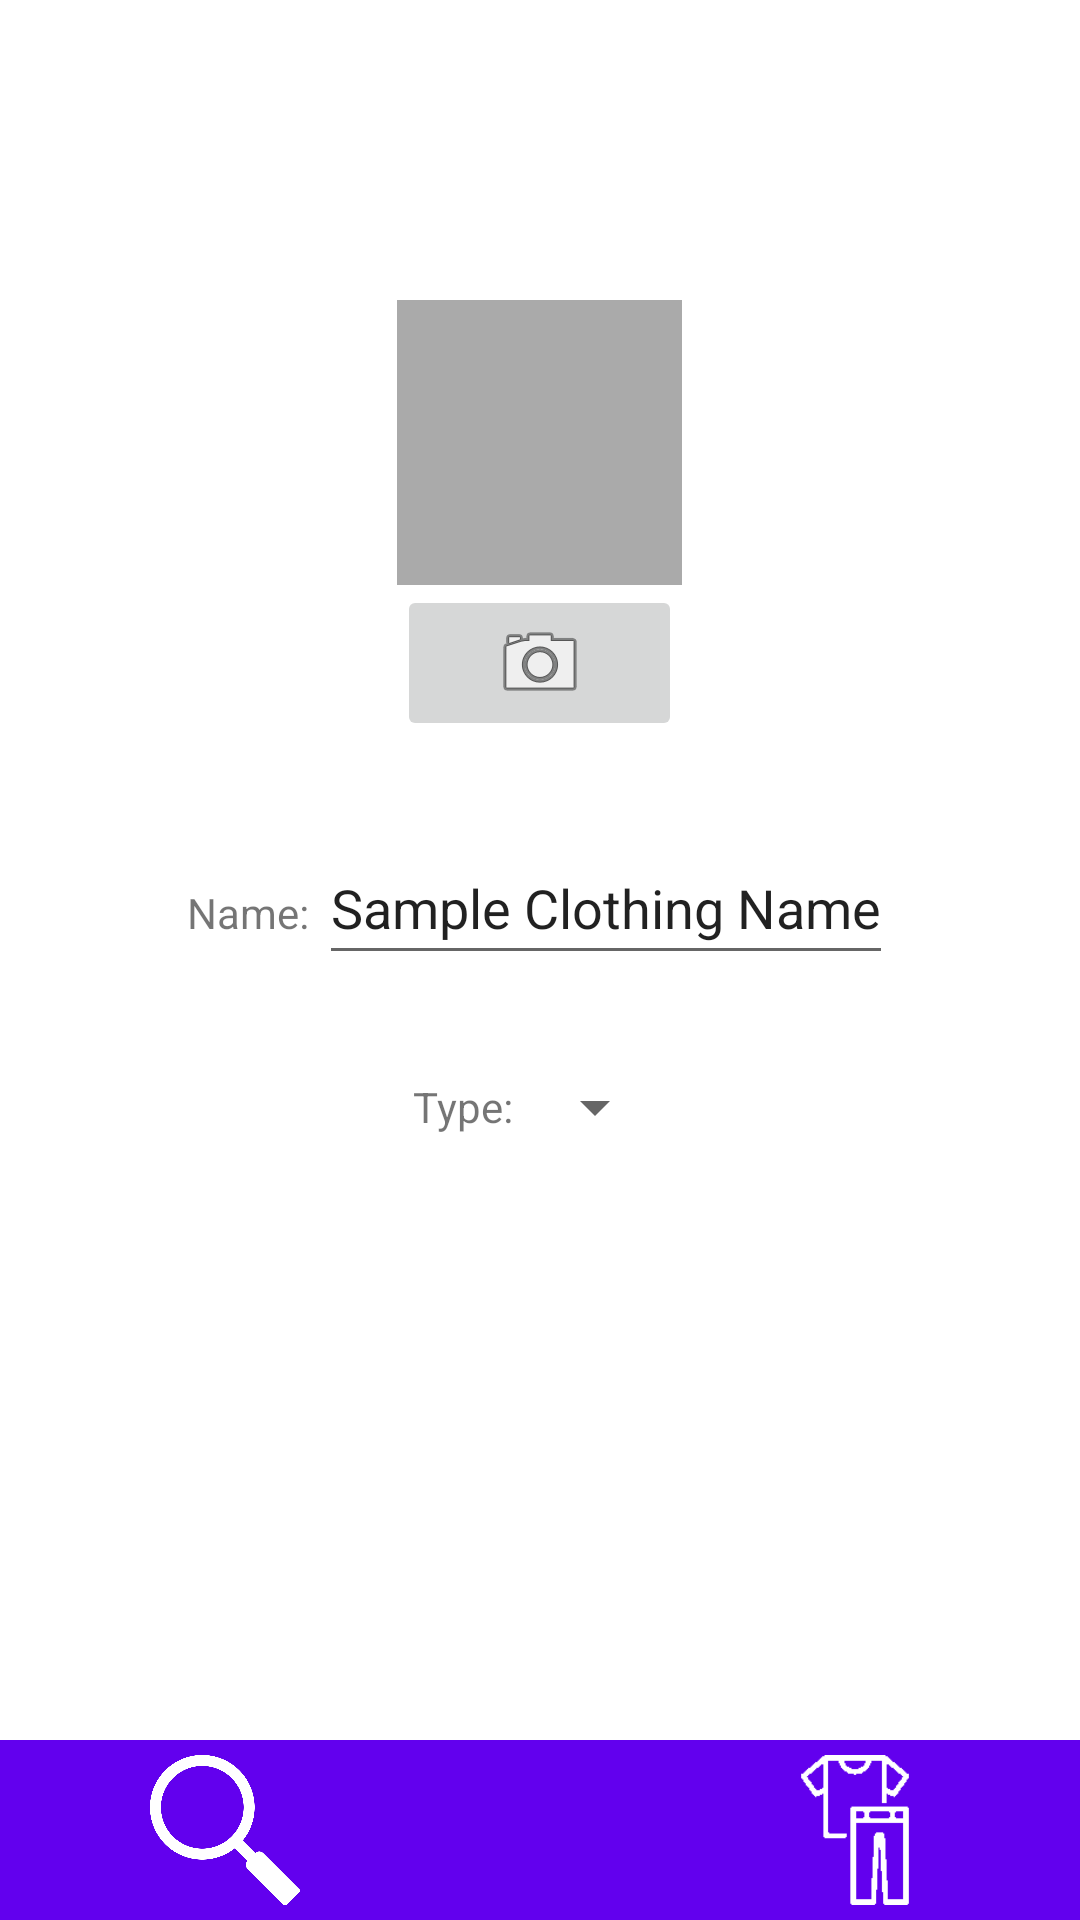

Screen size 1080px×1920px. Icon name, then its center in pixels as (x=x, y=y):
magnifyingglass: (x=225, y=1830)
outfiticon: (x=855, y=1830)
